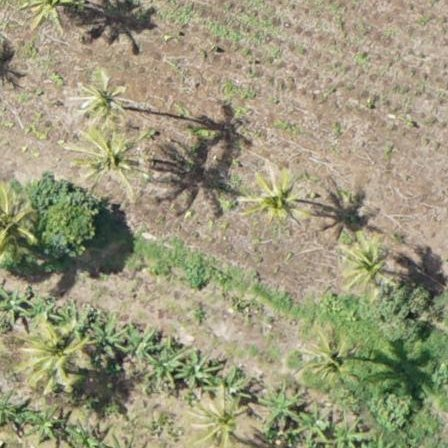palm_tree: (17, 324, 86, 395), (74, 127, 139, 189), (187, 389, 254, 448), (241, 168, 305, 229), (297, 327, 360, 387), (335, 236, 395, 293), (73, 73, 134, 127), (1, 185, 36, 257)
